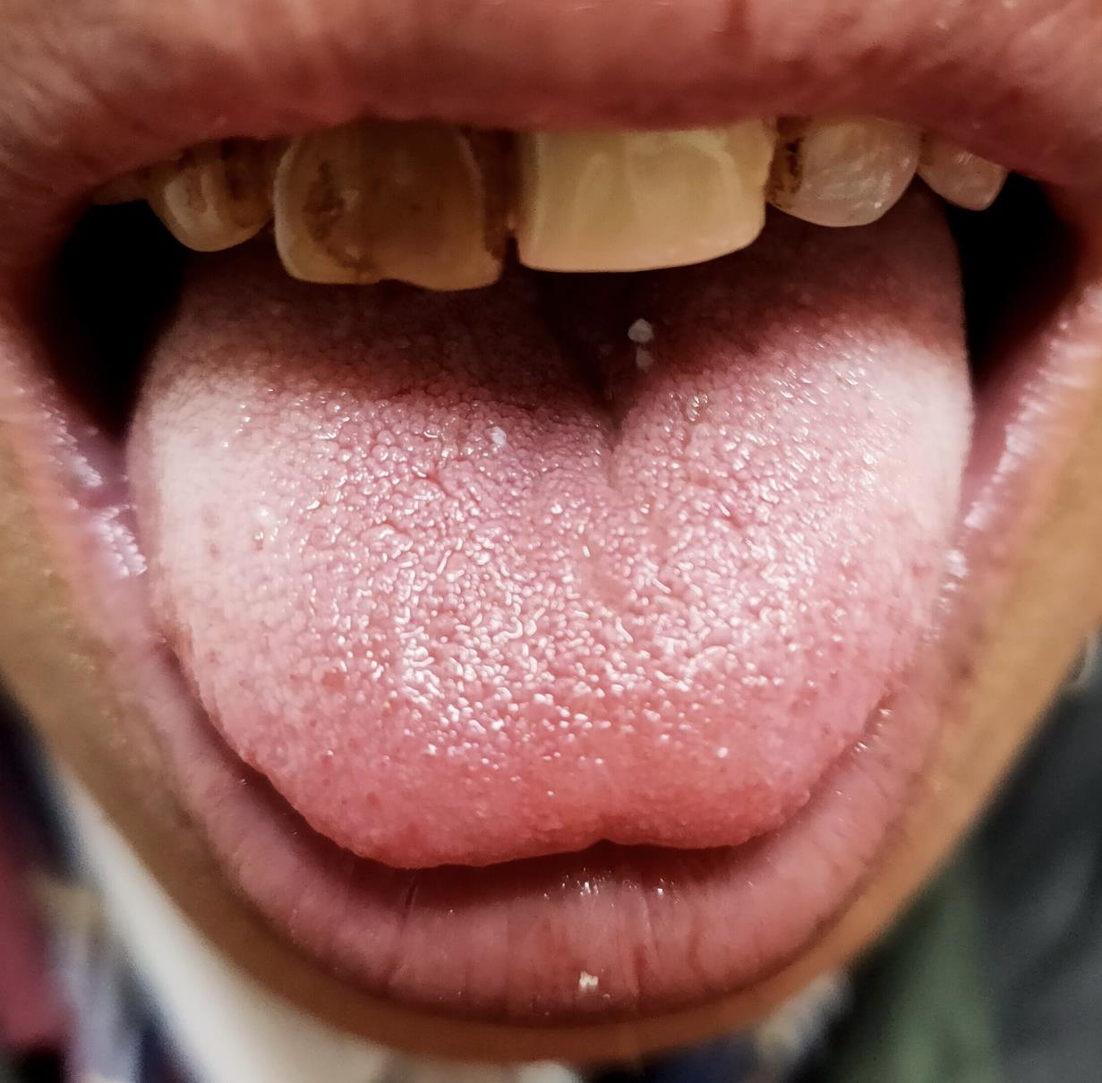baitaishe: (122, 298, 978, 872)
xinfeiao: (433, 814, 739, 874)
